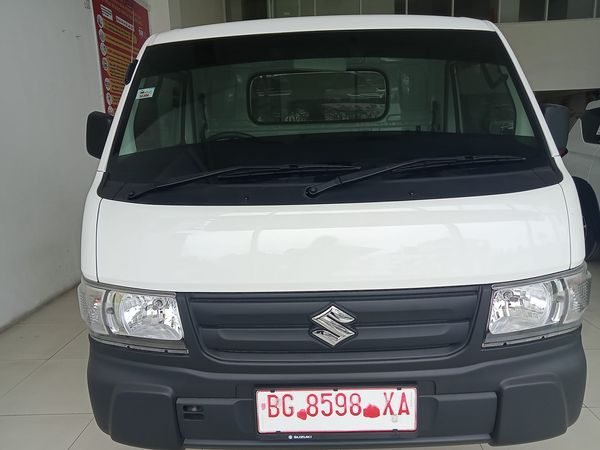plate: (254, 387, 416, 432)
